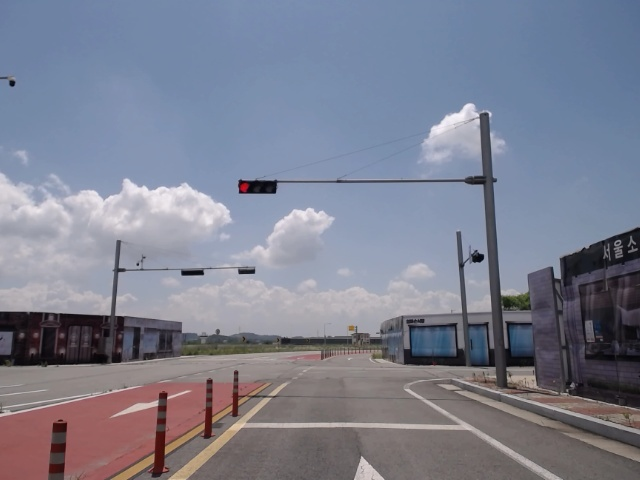red_3: (238, 180, 278, 194)
